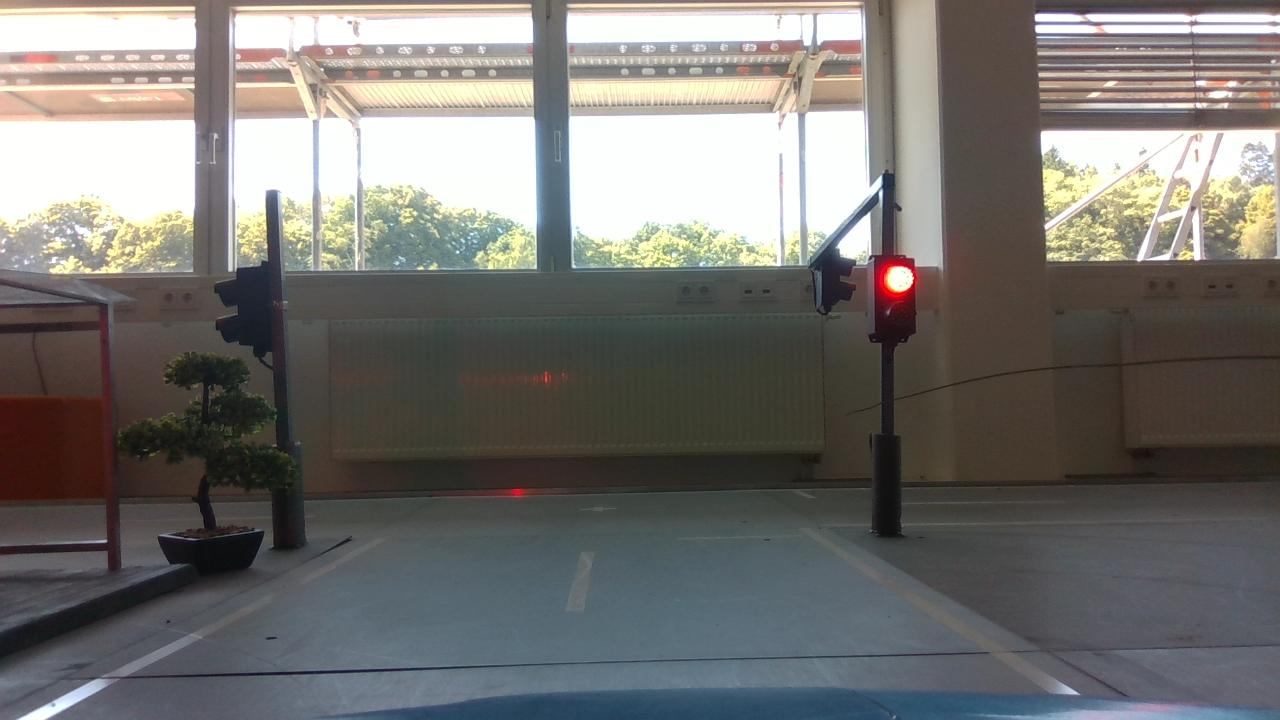traffic_light_red: (858, 246, 936, 361)
